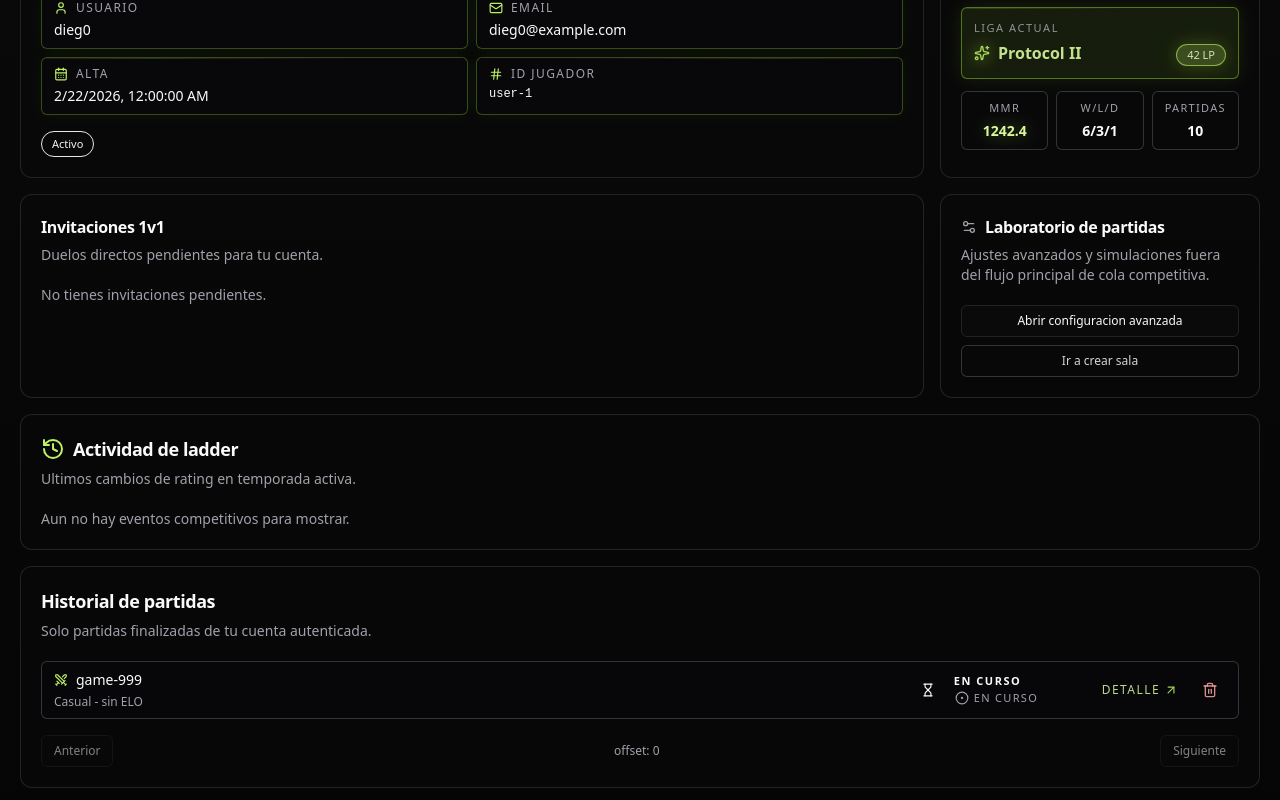
Test: ProfilePage › closes delete modal on Escape without deleting
(page scrolled)
Check: the text "game-999" is shown, box [54,670,142,689]
Step 1. Click the button named "Eliminar game-999" → (1210, 690), box [1194,674,1226,706]
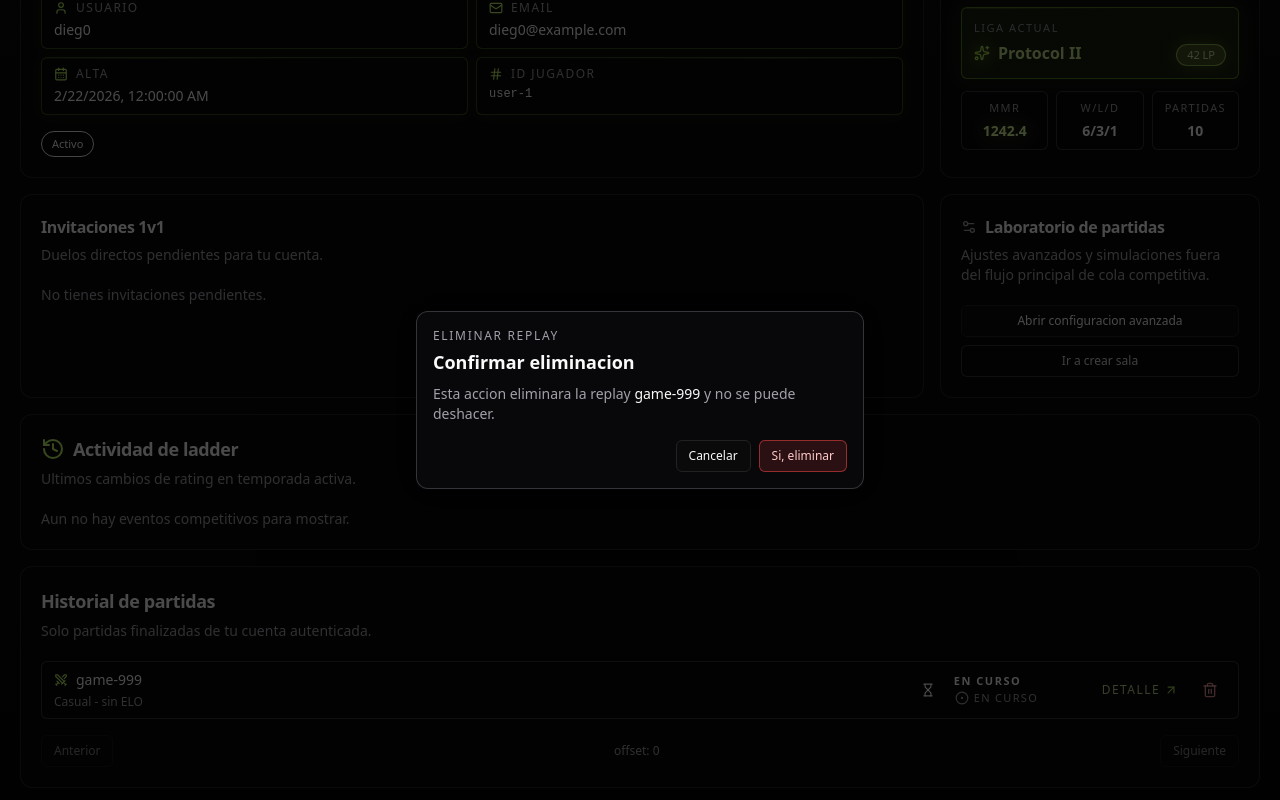
Check: the heading "Confirmar eliminacion" is shown, box [433,350,635,374]
Step 2. Press Escape
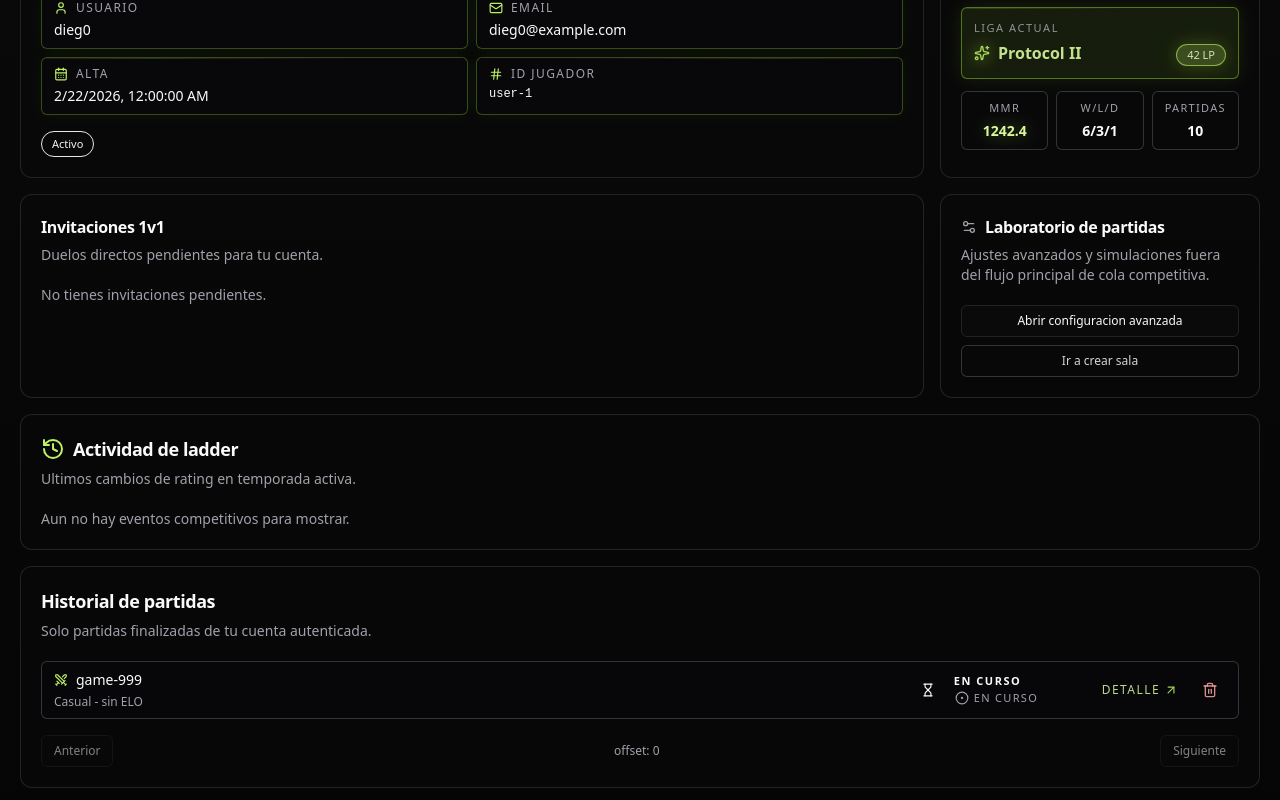
Check: the heading "Confirmar eliminacion" is gone
